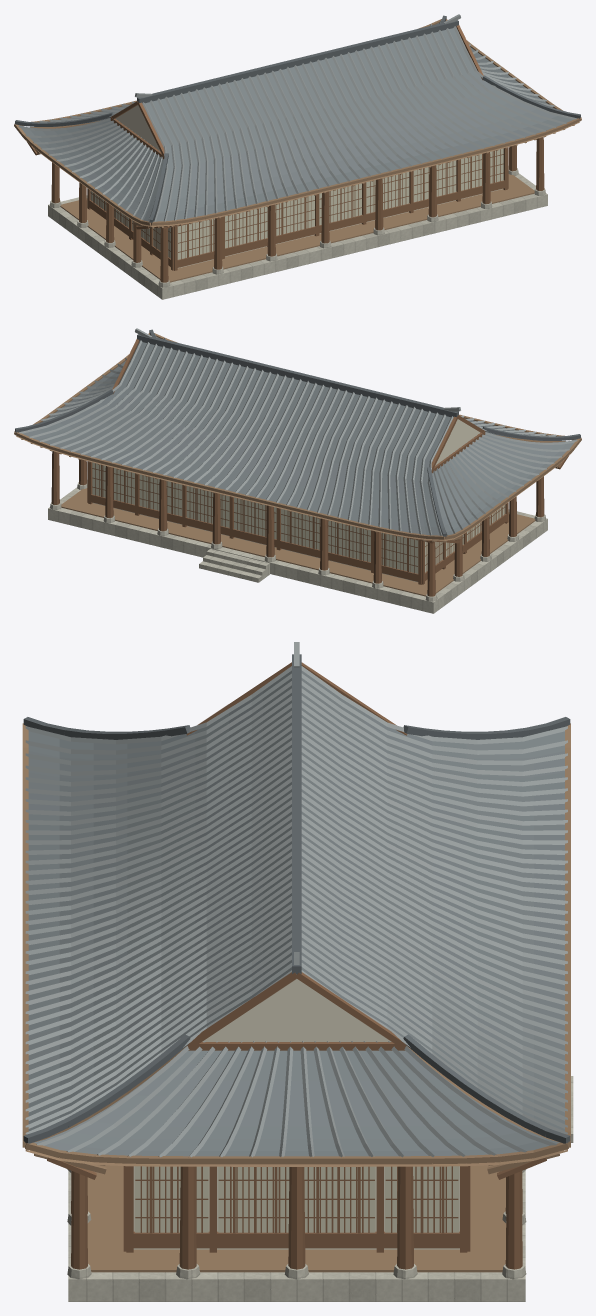
3 views of the same model, one above another, from view 1: azimuth 30°, elevation 25°; view 2: azimuth 150°, elevation 25°; view 3: azimuth 270°, elevation 25° (orthographic). The views are drawn at different scales.
Parts seen in each view (by area): view 1: chongmudang__tile, chongmudang__tileRidge, chongmudang__timber, chongmudang__timberLight, chongmudang__granite, chongmudang__paper, chongmudang__tileShadow, chongmudang__plaster; view 2: chongmudang__tile, chongmudang__tileRidge, chongmudang__timber, chongmudang__timberLight, chongmudang__granite, chongmudang__paper, chongmudang__tileShadow, chongmudang__plaster; view 3: chongmudang__tileRidge, chongmudang__tile, chongmudang__timber, chongmudang__timberLight, chongmudang__granite, chongmudang__paper, chongmudang__tileShadow, chongmudang__plaster.
Part boxes in pixels (bbox=[...]): chongmudang__tile: bbox=[19, 23, 572, 221]; chongmudang__tileRidge: bbox=[18, 14, 576, 221]; chongmudang__timber: bbox=[26, 25, 544, 282]; chongmudang__timberLight: bbox=[14, 19, 581, 282]; chongmudang__granite: bbox=[48, 166, 547, 299]; chongmudang__paper: bbox=[90, 148, 503, 259]; chongmudang__tileShadow: bbox=[15, 15, 580, 222]; chongmudang__plaster: bbox=[115, 105, 502, 268]; chongmudang__tile: bbox=[23, 337, 576, 535]; chongmudang__tileRidge: bbox=[19, 328, 577, 535]; chongmudang__timber: bbox=[51, 339, 569, 596]; chongmudang__timberLight: bbox=[14, 333, 581, 596]; chongmudang__granite: bbox=[48, 480, 547, 613]; chongmudang__paper: bbox=[92, 462, 505, 573]; chongmudang__tileShadow: bbox=[15, 329, 580, 536]; chongmudang__plaster: bbox=[93, 419, 480, 582]; chongmudang__tileRidge: bbox=[25, 642, 567, 1157]; chongmudang__tile: bbox=[28, 670, 564, 1156]; chongmudang__timber: bbox=[47, 662, 546, 1269]; chongmudang__timberLight: bbox=[22, 723, 570, 1272]; chongmudang__granite: bbox=[67, 1076, 573, 1301]; chongmudang__paper: bbox=[135, 1166, 458, 1232]; chongmudang__tileShadow: bbox=[23, 654, 570, 1143]; chongmudang__plaster: bbox=[133, 979, 459, 1249].
Size of the model in its own units: 24.67 by 8.57 by 13.62.
Materials: 8 (1 with a texture image).
